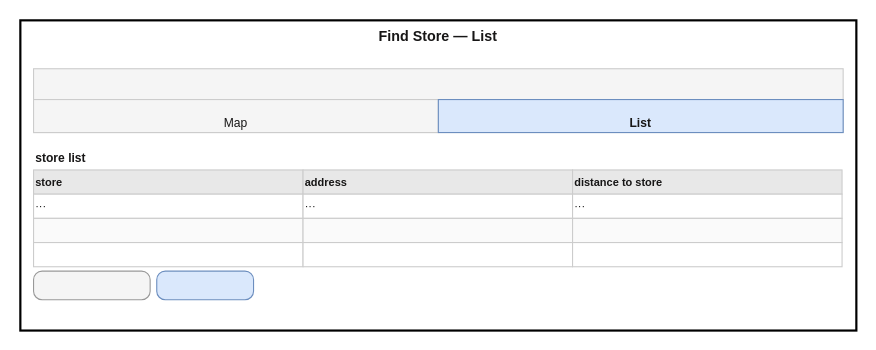
The diagram is 876 pixels wide and 350 high, and some of its shapes have lost their labels. The centre of each missing label's shape, as x and y in pixels:
"select store" goes at (205,285).
"site header · Find Store · catalog" goes at (437,84).
"use my location" goes at (91,285).
